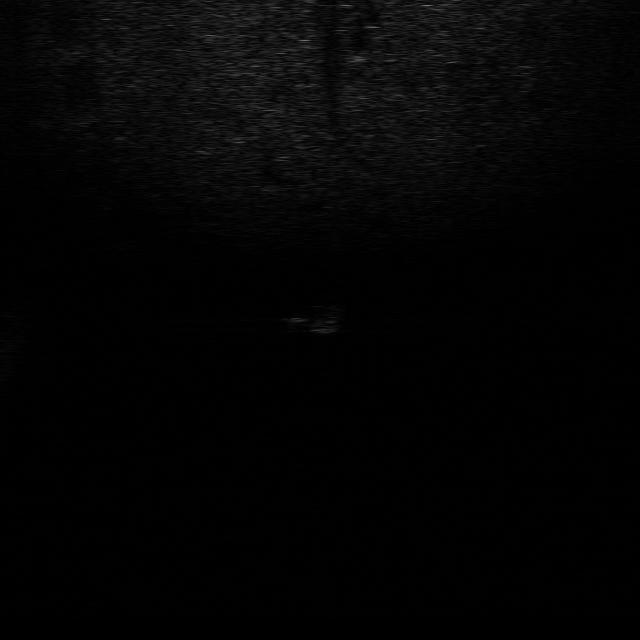human body: (275, 304, 345, 338)
